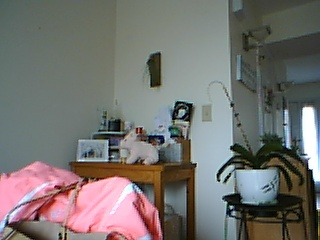piggy: (120, 130, 161, 167)
